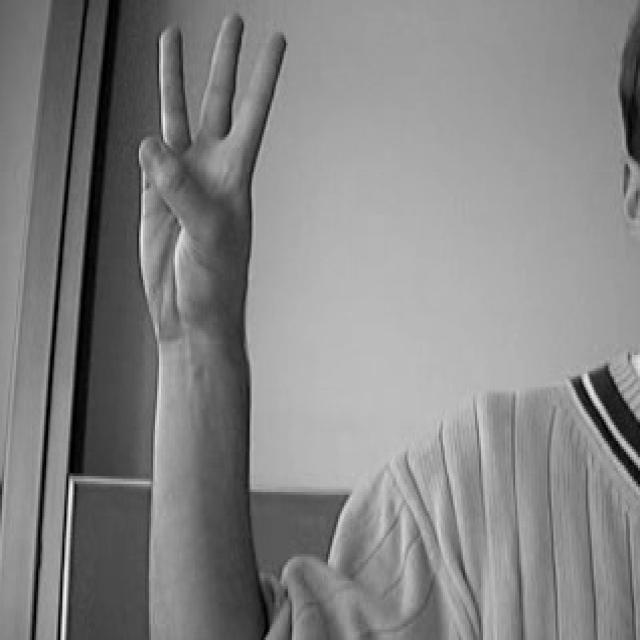W: (124, 1, 297, 351)
